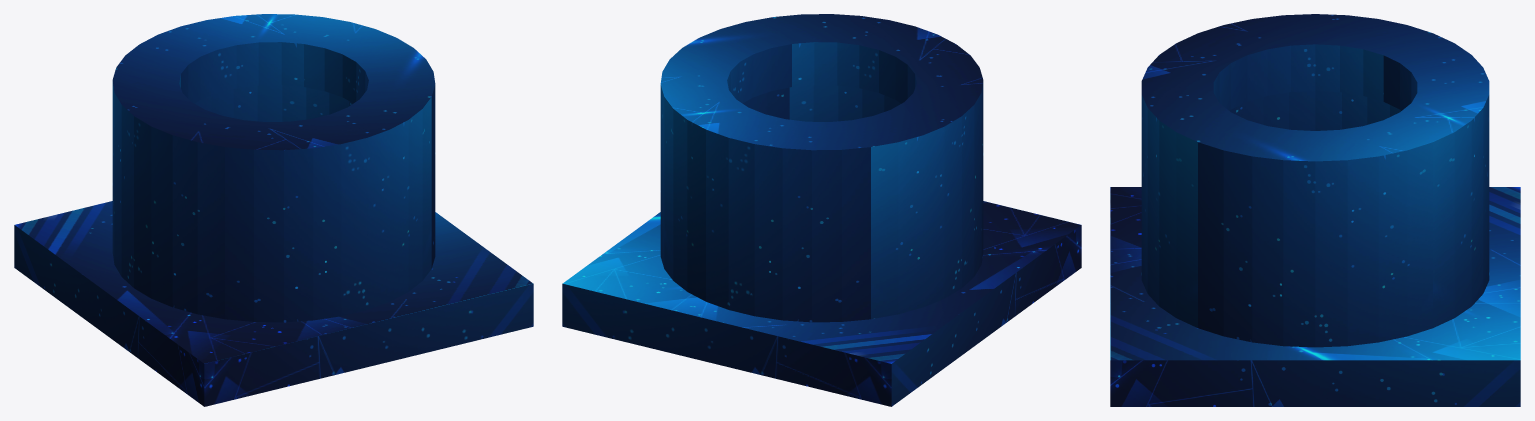
3 views of the same model, side by side, from view 1: azimuth 30°, elevation 25°; view 2: azimuth 150°, elevation 25°; view 3: azimuth 270°, elevation 25° (orthographic). The views are drawn at different scales.
Parts seen in each view (by area): view 1: base_link; view 2: base_link; view 3: base_link.
Part boxes in pixels (x1,y1,x2,y2): base_link: (14,14,533,406); base_link: (562,14,1081,406); base_link: (1110,14,1520,406).
Bounding box in the file's own units: 0.4 × 0.4 × 0.25.
1 material, 1 textured.
